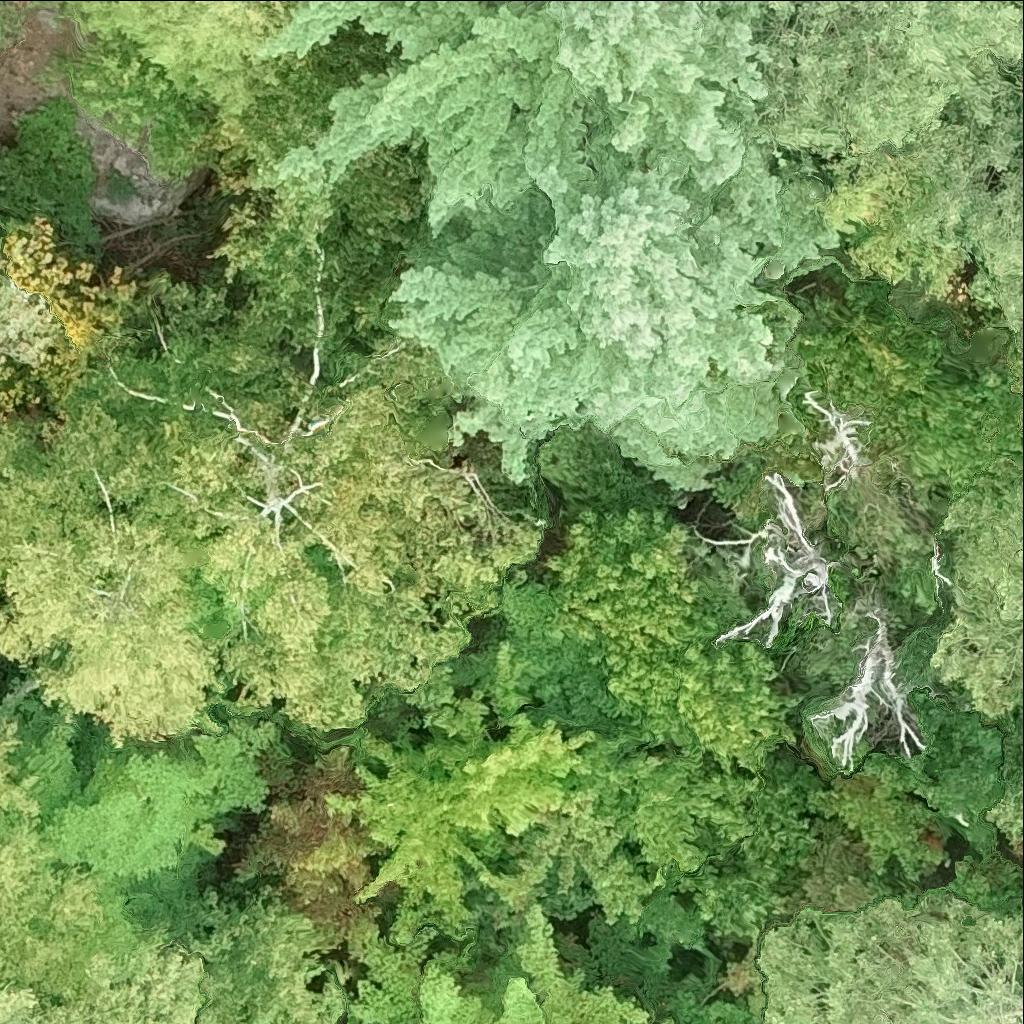crown: (57, 274, 545, 729), (387, 115, 841, 489), (289, 642, 757, 944), (248, 0, 774, 235), (0, 404, 226, 749), (540, 511, 801, 772), (826, 55, 1023, 352), (708, 0, 1023, 153), (228, 742, 401, 988), (809, 694, 1023, 884), (350, 904, 647, 1023), (759, 891, 1023, 1023), (854, 332, 1023, 514), (68, 0, 304, 116), (931, 456, 1023, 716), (70, 27, 224, 182), (719, 473, 837, 645), (817, 158, 957, 298), (813, 609, 924, 767), (798, 302, 943, 420), (0, 830, 101, 995), (0, 950, 201, 1023), (223, 140, 342, 258), (0, 225, 63, 375), (0, 724, 36, 814), (988, 777, 1023, 850), (1005, 339, 1023, 398), (347, 1006, 359, 1023), (662, 1018, 673, 1023)
